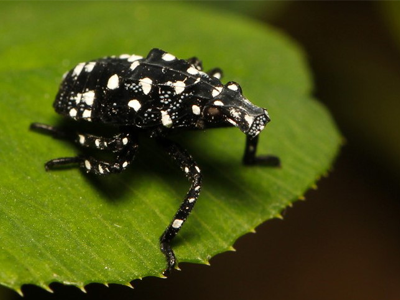instar nymph (1-3): (26, 44, 279, 275)
